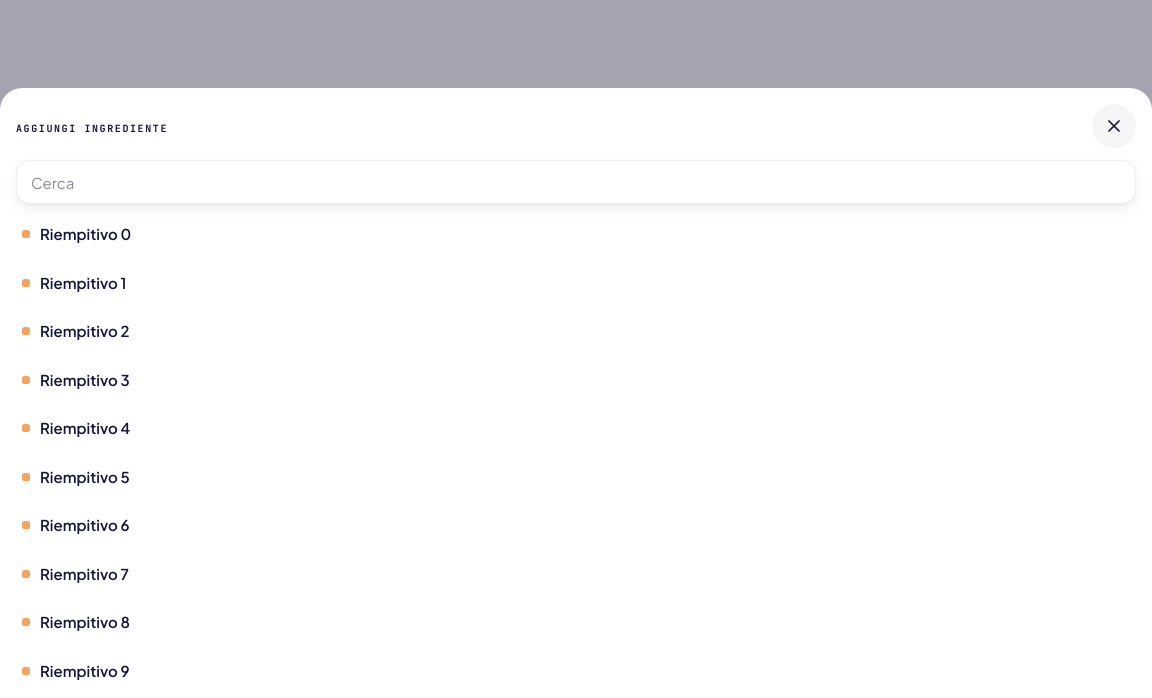
Test: SelettoreIngrediente (spec fase 7 §B.4) › senza risultati propone di crearlo, e il link resta
Type " zafferano " into the search field named "Cerca un ingrediente" at (576, 182), box [16,160,1136,204]
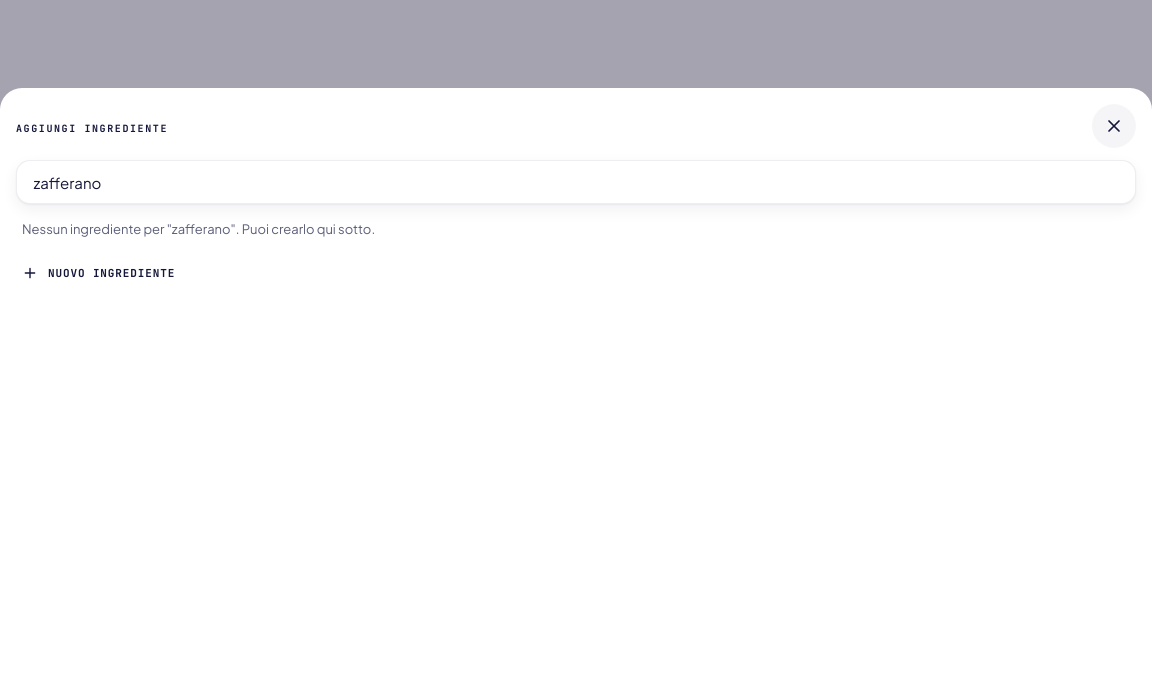
Expected: the text "Nessun ingrediente per \"zafferano\". Puoi crearlo qui sotto." is shown, [22,221,375,237]
Expected: the link "NUOVO INGREDIENTE" is shown, [22,265,175,281]
